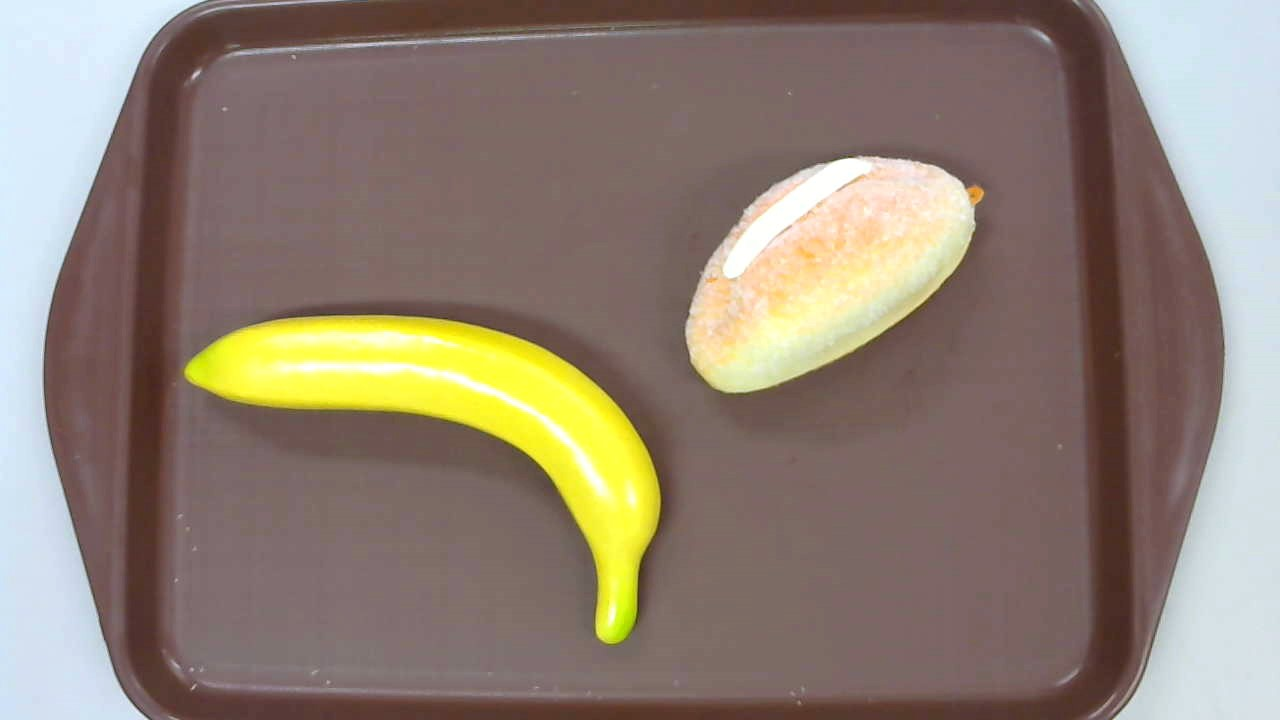banana: (184, 314, 660, 646)
coconut: (684, 155, 983, 395)
